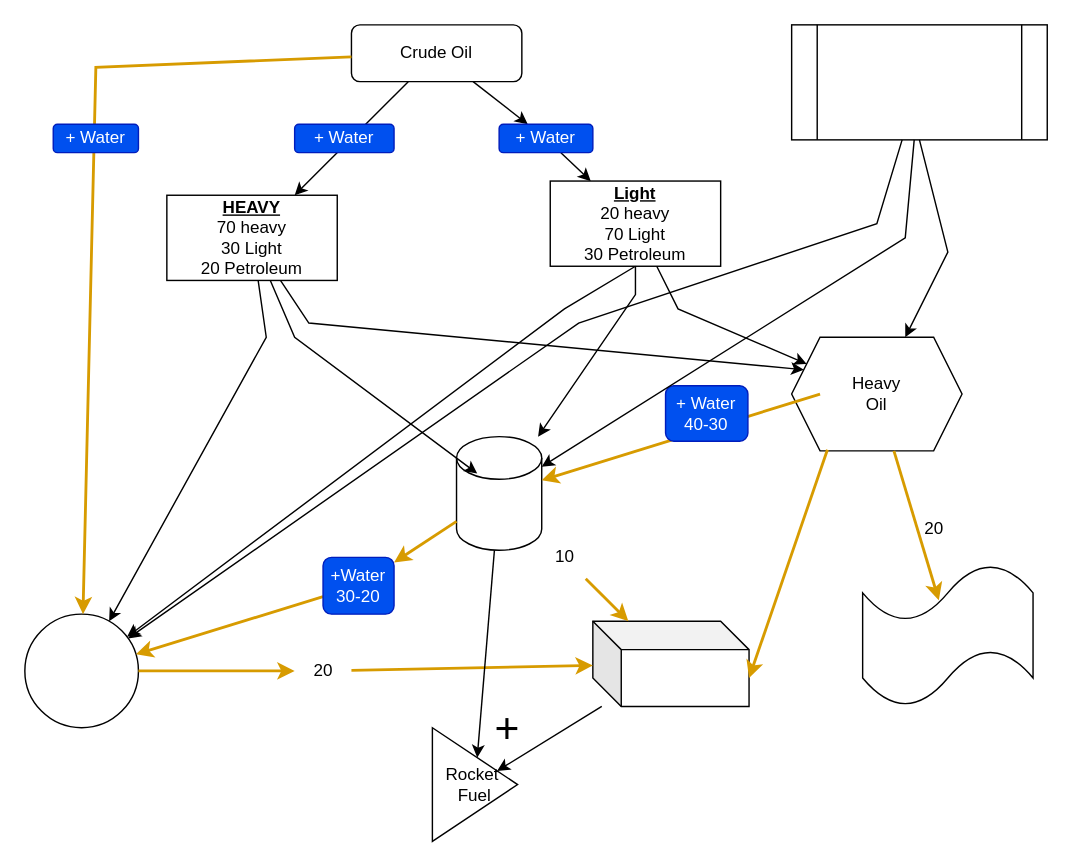
Some shapes in this 1072 by 866 pixel diagram are drawn without their labels. Each missing label, with the centre of its shape:
"Coal Liquefaction Coal & Steam to make 65 heavy (net) 20 Light 10 Petroleum" belongs at pixel 918 81.
"Light Oil" belongs at pixel 498 492.
"LUBE" belongs at pixel 947 634.
"Petroleum" belongs at pixel 80 670.
"Solid Fuel" belongs at pixel 670 663.
